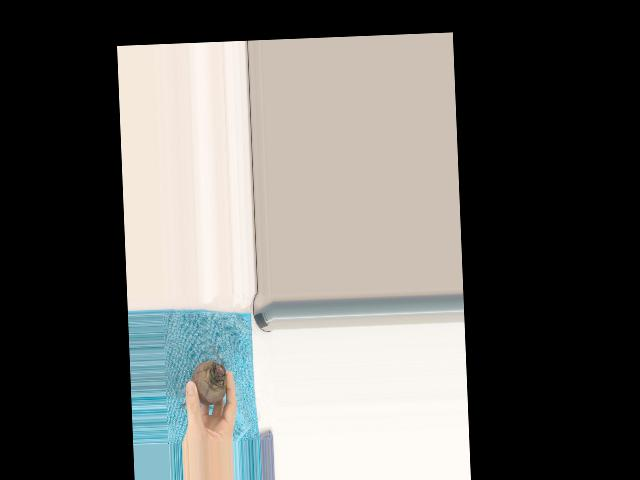beet: (175, 345, 227, 408)
